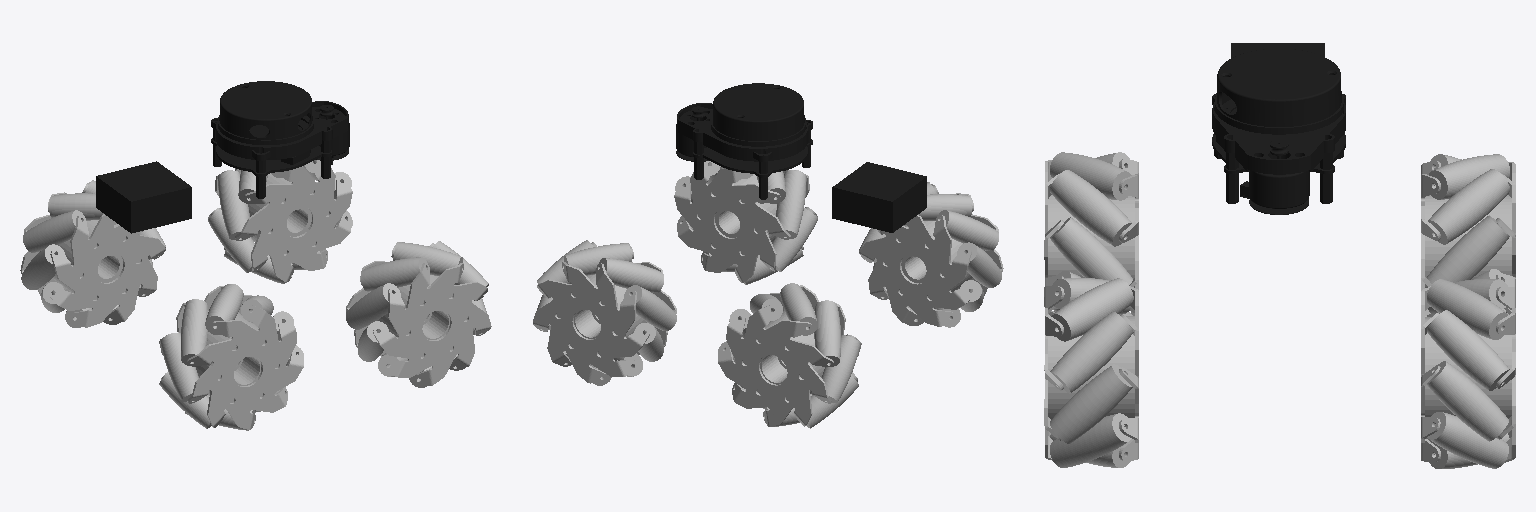
URDF robot description (rubot):
<?xml version="1.0" encoding="utf-8"?>
<!-- =================================================================================== -->
<!-- |    This document was autogenerated by xacro from rubot_mecanum.xacro            | -->
<!-- |    EDITING THIS FILE BY HAND IS NOT RECOMMENDED                                 | -->
<!-- =================================================================================== -->
<robot name="rubot">
  <material name="yellow">
    <color rgba="0.8 0.8 0.0 1.0"/>
  </material>
  <material name="black">
    <color rgba="0.15 0.15 0.15 1.0"/>
  </material>
  <material name="dark_grey">
    <color rgba="0.2 0.2 0.2 1.0"/>
  </material>
  <material name="light_grey">
    <color rgba="0.75 0.75 0.75 1.0"/>
  </material>

<!-- base_footprint reference frame without inertia is needed -->
  <link name="base_footprint"/>
<!-- base_link -->
  <joint name="base_link_joint" type="fixed">
    <origin rpy="0 0 0" xyz="0 0 0"/>
    <parent link="base_footprint"/>
    <child link="base_link"/>
  </joint>
  <link name="base_link">
    <visual>
      <origin rpy="0 0 0" xyz="0 0 0"/>
      <geometry>
        <mesh filename="package://rubot_mecanum_description/meshes/rubot/base_link.stl" scale="0.001 0.001 0.001"/>
      </geometry>
      <material name="yellow"/>
    </visual>
    <collision>
      <origin xyz="0 0 0"/>
      <geometry>
        <box size="0.23 0.12 0.05"/>
      </geometry>
    </collision>
    <inertial>
      <origin rpy="0 0 0" xyz="0 0 0"/>
      <mass value="5"/>
      <inertia ixx="0.0104" ixy="0" ixz="0" iyy="0.0292" iyz="0" izz="0.0375"/>
    </inertial>
  </link>
<!-- upper_left_wheel -->
  <joint name="upper_left_wheel_joint" type="continuous">
    <origin rpy="0 0 0" xyz="0.07 0.1 0"/>
    <parent link="base_link"/>
    <child link="upper_left_wheel"/>
    <axis xyz="0 1 0"/>
  </joint>
  <link name="upper_left_wheel">
    <visual>
      <origin rpy="0 0 0" xyz="0 0 0"/>
      <geometry>
        <mesh filename="package://rubot_mecanum_description/meshes/rubot/upper_left_wheel.stl" scale="0.001 0.001 0.001"/>
      </geometry>
      <material name="light_grey"/>
    </visual>
    <collision>
      <origin rpy="-1.57 0 0" xyz="0 0 0"/>
      <geometry>
        <cylinder length="0.03" radius="0.055"/>
      </geometry>
    </collision>
    <inertial>
      <mass value="0.2"/>
      <inertia ixx="0.000166" ixy="0" ixz="0" iyy="0.000303" iyz="0" izz="0.000166"/>
    </inertial>
  </link>
<!-- lower_left_wheel -->
  <joint name="lower_left_wheel_joint" type="continuous">
    <origin rpy="0 0 0" xyz="-0.085 0.1 0"/>
    <parent link="base_link"/>
    <child link="lower_left_wheel"/>
    <axis xyz="0 1 0"/>
  </joint>
  <link name="lower_left_wheel">
    <visual>
      <origin rpy="0 0 0" xyz="0 0 0"/>
      <geometry>
        <mesh filename="package://rubot_mecanum_description/meshes/rubot/lower_left_wheel.stl" scale="0.001 0.001 0.001"/>
      </geometry>
      <material name="light_grey"/>
    </visual>
    <collision>
      <origin rpy="-1.57 0 0" xyz="0 0 0"/>
      <geometry>
        <cylinder length="0.03" radius="0.055"/>
      </geometry>
    </collision>
    <inertial>
      <mass value="0.2"/>
      <inertia ixx="0.000166" ixy="0" ixz="0" iyy="0.000303" iyz="0" izz="0.000166"/>
    </inertial>
  </link>
<!-- upper_right_wheel -->
  <joint name="upper_right_wheel_joint" type="continuous">
    <origin rpy="0 0 3.14" xyz="0.07 -0.1 0"/>
    <parent link="base_link"/>
    <child link="upper_right_wheel"/>
    <axis xyz="0 -1 0"/>
  </joint>
  <link name="upper_right_wheel">
    <visual>
      <origin rpy="0 0 0" xyz="0 0 0"/>
      <geometry>
        <mesh filename="package://rubot_mecanum_description/meshes/rubot/upper_right_wheel.stl" scale="0.001 0.001 0.001"/>
      </geometry>
      <material name="light_grey"/>
    </visual>
    <collision>
      <origin rpy="-1.57 0 0" xyz="0 0 0"/>
      <geometry>
        <cylinder length="0.03" radius="0.055"/>
      </geometry>
    </collision>
    <inertial>
      <mass value="0.2"/>
      <inertia ixx="0.000166" ixy="0" ixz="0" iyy="0.000303" iyz="0" izz="0.000166"/>
    </inertial>
  </link>
<!-- lower_right_wheel -->
  <joint name="lower_right_wheel_joint" type="continuous">
    <origin rpy="0 0 3.14" xyz="-0.085 -0.1 0"/>
    <parent link="base_link"/>
    <child link="lower_right_wheel"/>
    <axis xyz="0 -1 0"/>
  </joint>
  <link name="lower_right_wheel">
    <visual>
      <origin rpy="0 0 0" xyz="0 0 0"/>
      <geometry>
        <mesh filename="package://rubot_mecanum_description/meshes/rubot/lower_right_wheel.stl" scale="0.001 0.001 0.001"/>
      </geometry>
      <material name="light_grey"/>
    </visual>
    <collision>
      <origin rpy="-1.57 0 0" xyz="0 0 0"/>
      <geometry>
        <cylinder length="0.03" radius="0.055"/>
      </geometry>
    </collision>
    <inertial>
      <mass value="0.2"/>
      <inertia ixx="0.000166" ixy="0" ixz="0" iyy="0.000303" iyz="0" izz="0.000166"/>
    </inertial>
  </link> -->
<!-- 2D Camera as a mesh of actual PiCamera -->
  <joint name="joint_camera" type="fixed">
    <origin rpy="0 0 0" xyz="0.120 0.0 0.09"/>
    <parent link="base_link"/>
    <child link="camera"/>
    <axis xyz="0 1 0"/>
  </joint>
  <link name="camera">
    <visual>
      <origin rpy="0 0 0" xyz="0 0 0"/>
      <geometry>
        <mesh filename="package://rubot_mecanum_description/meshes/rubot/piCamera.stl" scale="0.001 0.001 0.001"/>
      </geometry>
      <material name="black"/>
    </visual>
    <collision>
      <origin rpy="0 1.570795 0" xyz="0 0 0"/>
      <geometry>
        <box size="0.05 0.05 0.025"/>
      </geometry>
    </collision>
    <inertial>
      <origin rpy="0 1.570795 0" xyz="0 0 0"/>
      <mass value="0.01"/>
      <inertia ixx="1e-6" ixy="0" ixz="0" iyy="1e-6" iyz="0" izz="1e-6"/>
    </inertial>
  </link>
  <!-- LIDAR base_scan -->
  <link name="base_scan">
    <visual>
      <origin rpy="0 0 0" xyz="0 0 0.0"/>
      <geometry>
        <mesh filename="package://rubot_mecanum_description/meshes/rubot/Lidar.stl" scale="0.001 0.001 0.001"/>
      </geometry>
      <material name="black"/>
    </visual>
    <collision>
      <origin rpy="0 0 0" xyz="0 0 0"/>
      <geometry>
        <cylinder length="0.05" radius="0.05"/>
      </geometry>
    </collision>
    <inertial>
      <origin rpy="0 0 0" xyz="0 0 0.4"/>
      <mass value="0.05"/>
      <inertia ixx="0.001" ixy="0.0" ixz="0.0" iyy="0.001" iyz="0.0" izz="0.001"/>
    </inertial>
  </link>
  <joint name="scan_joint" type="fixed">
    <axis xyz="0 0 1"/>
    <origin rpy="0 0 0" xyz="0 0 0.15"/>
    <parent link="base_link"/>
    <child link="base_scan"/>
  </joint>
  <!-- Box part -->
  <joint name="joint_part" type="fixed">
    <origin rpy="0 0 0" xyz="-0.10 0.0 0.09"/>
    <parent link="base_link"/>
    <child link="part"/>
  </joint>
  <link name="part">
    <visual>
      <origin rpy="0 0 0" xyz="0 0 0"/>
      <geometry>
        <box size="0.05 0.05 0.025"/>
      </geometry>
      <material name="black"/>
    </visual>
    <collision>
      <origin rpy="0 0 0" xyz="0 0 0"/>
      <geometry>
        <box size="0.05 0.05 0.025"/>
      </geometry>
    </collision>
    <inertial>
      <mass value="0.01"/>
      <inertia ixx="1e-6" ixy="0" ixz="0" iyy="1e-6" iyz="0" izz="1e-6"/>
    </inertial>
  </link>
  <!-- Mecanum drive controller -->
  <gazebo>
    <plugin name="Mecanum_controller" filename="libgazebo_ros_planar_move.so">
      <commandTopic>cmd_vel</commandTopic>
      <odometryTopic>odom</odometryTopic>
      <odometryFrame>odom</odometryFrame>
      <odometrySource>world</odometrySource>
      <publishOdomTF>true</publishOdomTF>
      <odometryRate>50.0</odometryRate>
      <robotBaseFrame>base_footprint</robotBaseFrame>
      <publishWheelTF>false</publishWheelTF>
      <publishTf>true</publishTf>
      <publishWheelJointState>true</publishWheelJointState>
      <wheelAcceleration>0.5</wheelAcceleration>
      <wheelTorque>1</wheelTorque>
      <legacyMode>false</legacyMode>
      <updateRate>30</updateRate>
      <leftFrontJoint>upper_left_wheel_joint</leftFrontJoint>
      <rightFrontJoint>upper_right_wheel_joint</rightFrontJoint>
      <leftRearJoint>lower_left_wheel_joint</leftRearJoint>
      <rightRearJoint>lower_right_wheel_joint</rightRearJoint>
    </plugin>
  </gazebo>
  <!-- 2D Camera controller -->
  <gazebo reference="camera">
    <sensor name="camera1" type="camera">
      <update_rate>30.0</update_rate>
      <camera name="front">
        <horizontal_fov>1.3962634</horizontal_fov>
        <image>
          <width>320</width>
          <height>240</height>
          <format>R8G8B8</format>
        </image>
        <clip>
          <near>0.02</near>
          <far>300</far>
        </clip>
      </camera>
      <plugin filename="libgazebo_ros_camera.so" name="camera_controller">
        <alwaysOn>true</alwaysOn>
        <visualize>false</visualize>
        <cameraName>rubot/camera1</cameraName>
        <imageTopicName>image_raw</imageTopicName>
        <cameraInfoTopicName>camera_info</cameraInfoTopicName>
        <frameName>camera</frameName>
        <hackBaseline>0.07</hackBaseline>
        <distortionK1>0.0</distortionK1>
        <distortionK2>0.0</distortionK2>
        <distortionK3>0.0</distortionK3>
        <distortionT1>0.0</distortionT1>
        <distortionT2>0.0</distortionT2>
      </plugin>
    </sensor>
  </gazebo>
  <!-- Laser Distance Sensor YDLIDAR X4 controller-->
  <gazebo reference="base_scan">
    <sensor name="lds_lfcd_sensor" type="ray">
      <pose>0 0 0 0 0 0</pose>
      <visualize>false</visualize>
      <update_rate>5</update_rate>
      <ray>
        <scan>
          <horizontal>
            <samples>720</samples>
            <resolution>1</resolution>
            <min_angle>0.0</min_angle>
            <max_angle>6.28319</max_angle>
          </horizontal>
        </scan>
        <range>
          <min>0.12</min>
          <max>10</max>
          <resolution>0.015</resolution>
        </range>
        <noise>
          <type>gaussian</type>
          <!-- Noise parameters based on published spec for YDLIDAR X4
              is 1.5% at half range 4m (= 60mm, "+-160mm" accuracy at max. range 8m).
              A mean of 0.0m and stddev of 0.020m will put 99.7% of samples
              within 0.16m of the true reading. -->
          <mean>0.0</mean>
          <stddev>0.02</stddev>
        </noise>
      </ray>
      <plugin filename="libgazebo_ros_laser.so" name="gazebo_ros_lds_lfcd_controller">
        <!-- topicName>/gopigo/scan</topicName -->
        <topicName>scan</topicName>
        <frameName>base_scan</frameName>
      </plugin>
    </sensor>
  </gazebo>
<!-- Gazebo colors have to be specified here with predefined Gazebo colors -->
  <gazebo reference="base_footprint">
    <material>Gazebo/Yellow</material>
    <gravity>true</gravity>
  </gazebo>
  <gazebo reference="base_link">
    <material>Gazebo/Yellow</material>
  </gazebo>
  <gazebo reference="base_scan">
    <material>Gazebo/DarkGrey</material>
  </gazebo>
  <gazebo reference="camera">
    <material>Gazebo/Green</material>
  </gazebo>
  <gazebo reference="part">
    <material>Gazebo/Green</material>
  </gazebo>
  <gazebo reference="upper_left_wheel">
    <material>Gazebo/Grey</material>
    <mu1>0.5</mu1>
    <mu2>0.5</mu2>
    <kp>1000</kp>
    <ki>100</ki>
    <kd>1</kd>
    <minDepth>0.001</minDepth>
    <maxVel>0.5</maxVel>
    <fdir1>1 0 0</fdir1>
  </gazebo>
  <gazebo reference="lower_left_wheel">
    <material>Gazebo/Grey</material>
    <mu1>0.5</mu1>
    <mu2>0.5</mu2>
    <kp>1000</kp>
    <ki>100</ki>
    <kd>1</kd>
    <minDepth>0.001</minDepth>
    <maxVel>0.5</maxVel>
    <fdir1>1 0 0</fdir1>
  </gazebo>
  <gazebo reference="upper_right_wheel">
    <material>Gazebo/Grey</material>
    <mu1>0.5</mu1>
    <mu2>0.5</mu2>
    <kp>1000</kp>
    <ki>100</ki>
    <kd>1</kd>
    <minDepth>0.001</minDepth>
    <maxVel>0.5</maxVel>
    <fdir1>1 0 0</fdir1>
  </gazebo>
  <gazebo reference="lower_right_wheel">
    <material>Gazebo/Grey</material>
    <mu1>0.5</mu1>
    <mu2>0.5</mu2>
    <kp>1000</kp>
    <ki>100</ki>
    <kd>1</kd>
    <minDepth>0.001</minDepth>
    <maxVel>0.5</maxVel>
    <fdir1>1 0 0</fdir1>
  </gazebo>
</robot>

--- Render facts (derived) ---
The picture shows the robot from 3 angles, left to right: view 1: azimuth 30°, elevation 25°; view 2: azimuth 150°, elevation 25°; view 3: azimuth 270°, elevation 25°; orthographic projection.
Robot: rubot — 9 links, 8 joints (4 continuous, 4 fixed); root link base_footprint; default pose: all joints at 0.
Visible links, largest first — view 1: lower_right_wheel, upper_right_wheel, lower_left_wheel, upper_left_wheel, base_scan, part; view 2: lower_left_wheel, upper_left_wheel, lower_right_wheel, upper_right_wheel, base_scan, part; view 3: base_scan, upper_left_wheel, upper_right_wheel, lower_right_wheel, lower_left_wheel, part.
Link boxes in pixels (x1,y1,x2,y2): lower_right_wheel: [159, 284, 303, 430]; upper_right_wheel: [346, 241, 491, 387]; lower_left_wheel: [20, 180, 165, 327]; upper_left_wheel: [208, 160, 352, 283]; base_scan: [211, 81, 349, 198]; part: [96, 161, 191, 233]; lower_left_wheel: [718, 283, 861, 428]; upper_left_wheel: [533, 240, 676, 385]; lower_right_wheel: [859, 182, 1003, 327]; upper_right_wheel: [674, 161, 817, 284]; base_scan: [676, 83, 812, 199]; part: [832, 162, 926, 232]; base_scan: [1212, 49, 1345, 214]; upper_left_wheel: [1421, 279, 1515, 468]; upper_right_wheel: [1044, 278, 1138, 467]; lower_right_wheel: [1044, 152, 1138, 315]; lower_left_wheel: [1421, 154, 1515, 316]; part: [1231, 43, 1324, 57].
Bounding box of the posed robot: 0.257 × 0.2501 × 0.1936 m (x, y, z).
Meshes: 7 distinct files referenced, 5 mesh visuals loaded (5 binary STL); not drawn: 2 (reference not matched to a file when rendering).
